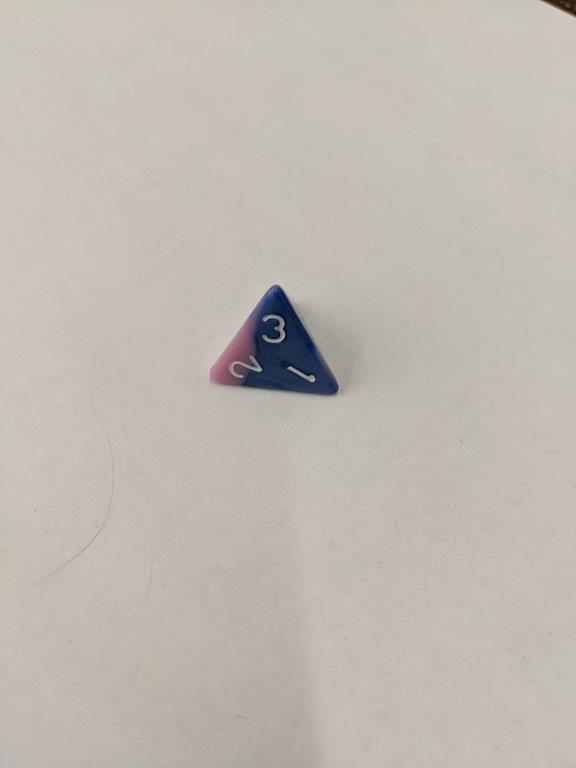d4-3: (205, 284, 343, 401)
